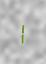one: (19, 19, 24, 44)
